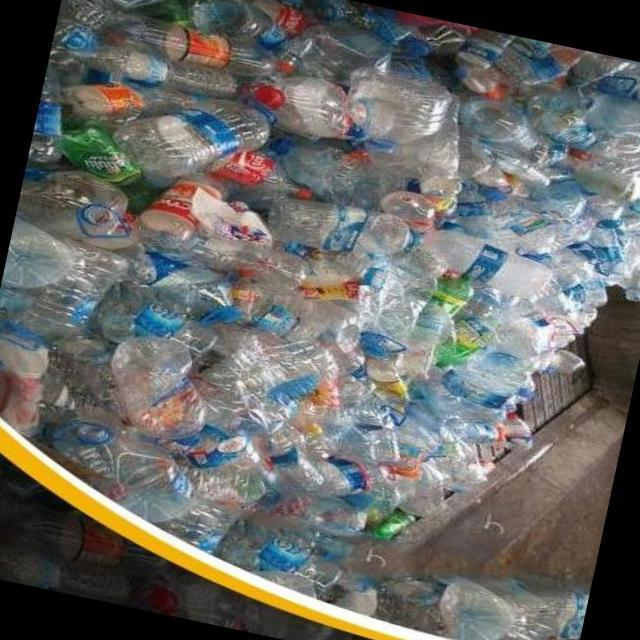defected: (0, 227, 130, 354), (192, 120, 378, 206), (95, 327, 222, 448), (204, 227, 364, 304), (342, 62, 457, 162), (67, 420, 200, 500), (13, 160, 134, 244), (364, 258, 439, 367), (472, 182, 578, 254), (0, 212, 76, 304), (270, 132, 372, 200), (496, 573, 588, 640), (429, 573, 516, 640), (371, 450, 454, 520), (453, 90, 542, 154), (0, 329, 53, 432), (518, 86, 598, 150), (470, 135, 561, 190), (398, 11, 470, 68), (570, 148, 640, 204), (452, 23, 516, 84), (372, 182, 448, 232), (578, 222, 635, 282), (568, 48, 632, 98), (361, 502, 420, 546), (476, 362, 540, 398), (444, 414, 504, 448), (62, 0, 170, 15), (1, 511, 25, 576)
good: (123, 80, 284, 198), (106, 8, 300, 88), (0, 501, 176, 579), (60, 63, 210, 143), (61, 33, 239, 100), (413, 222, 558, 302), (230, 278, 367, 358), (126, 238, 248, 327), (210, 517, 348, 595), (44, 114, 162, 201), (132, 162, 228, 255), (251, 65, 364, 142), (144, 558, 262, 630), (0, 544, 133, 604), (210, 142, 320, 205), (122, 295, 234, 355), (297, 441, 398, 507), (416, 304, 498, 379), (27, 63, 82, 167), (183, 0, 298, 46), (181, 456, 266, 513), (260, 434, 332, 493), (198, 0, 307, 35), (355, 351, 416, 412), (426, 264, 481, 320), (552, 272, 612, 320), (490, 408, 540, 454), (536, 340, 590, 381), (613, 255, 640, 304)
